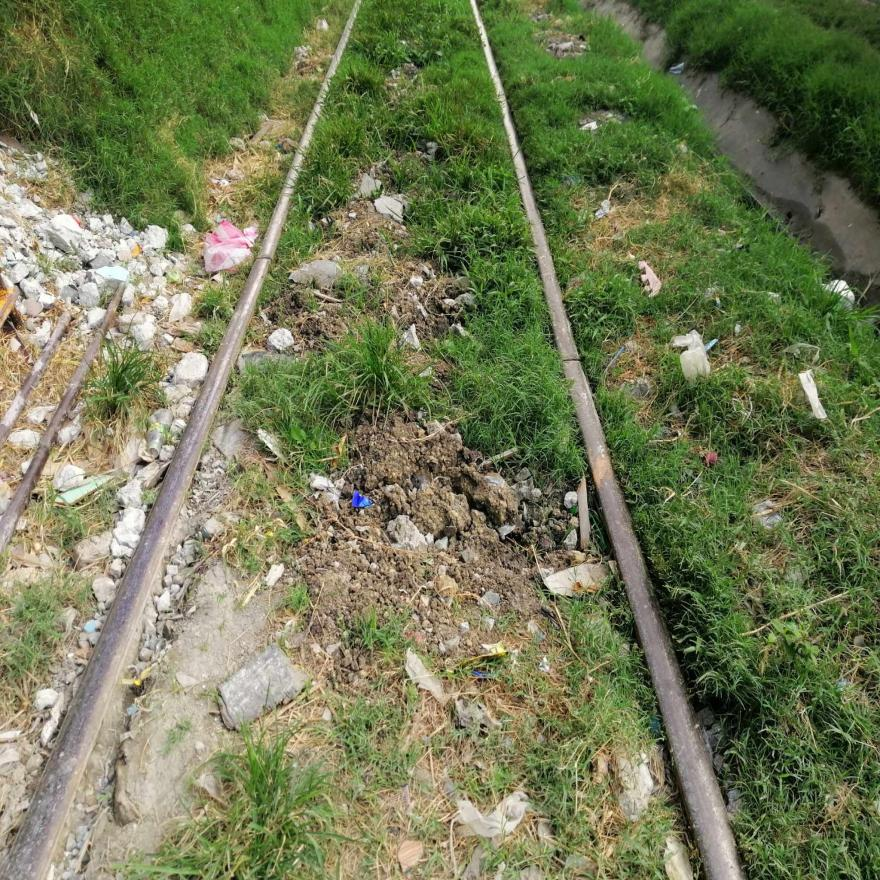railway-gap: (236, 224, 294, 296), (544, 326, 600, 394)
